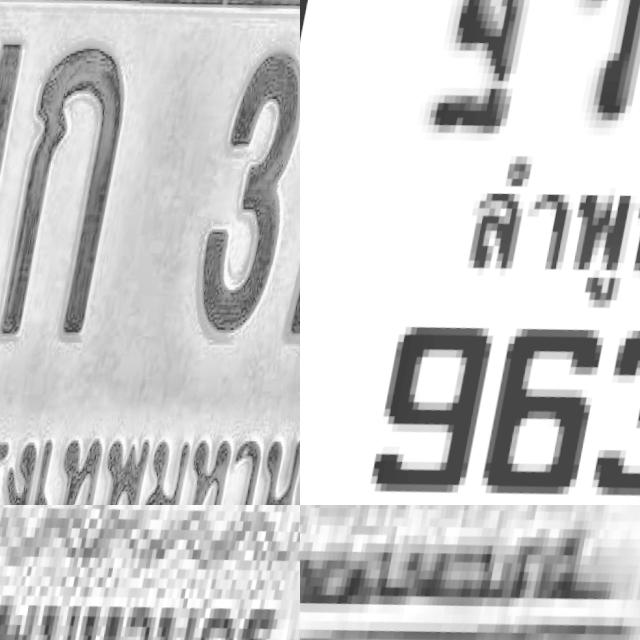license-plate: (300, 0, 640, 505), (0, 0, 300, 505), (300, 505, 640, 640), (0, 505, 300, 640)
